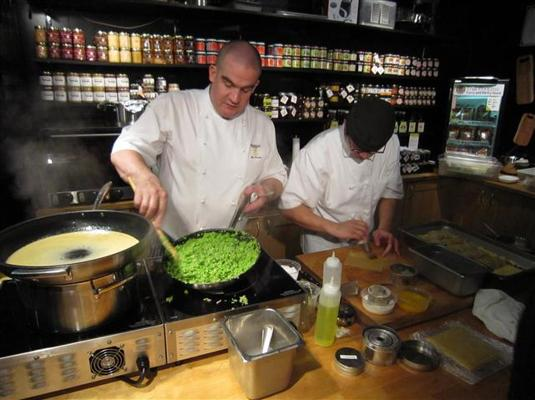person: (109, 43, 289, 242)
